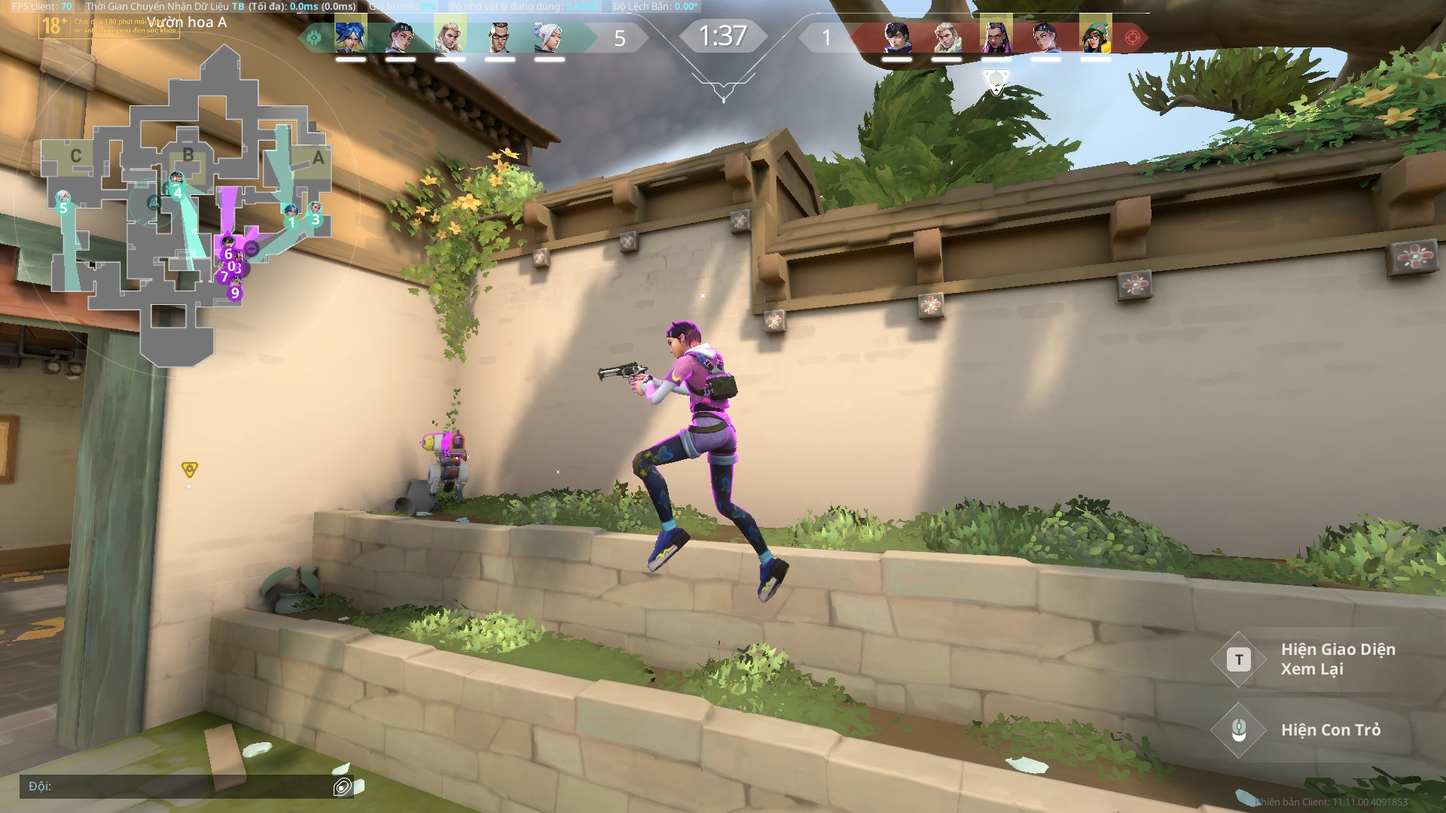body: (673, 345, 736, 407)
head: (664, 318, 702, 356)
